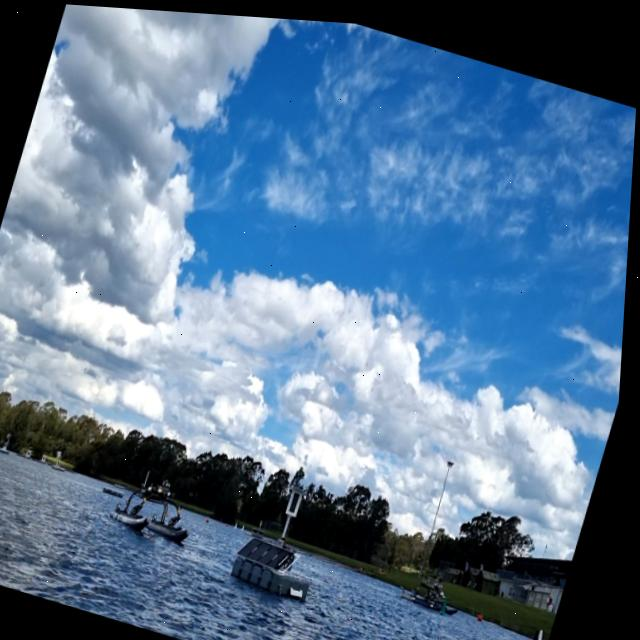led: (293, 487, 307, 509)
